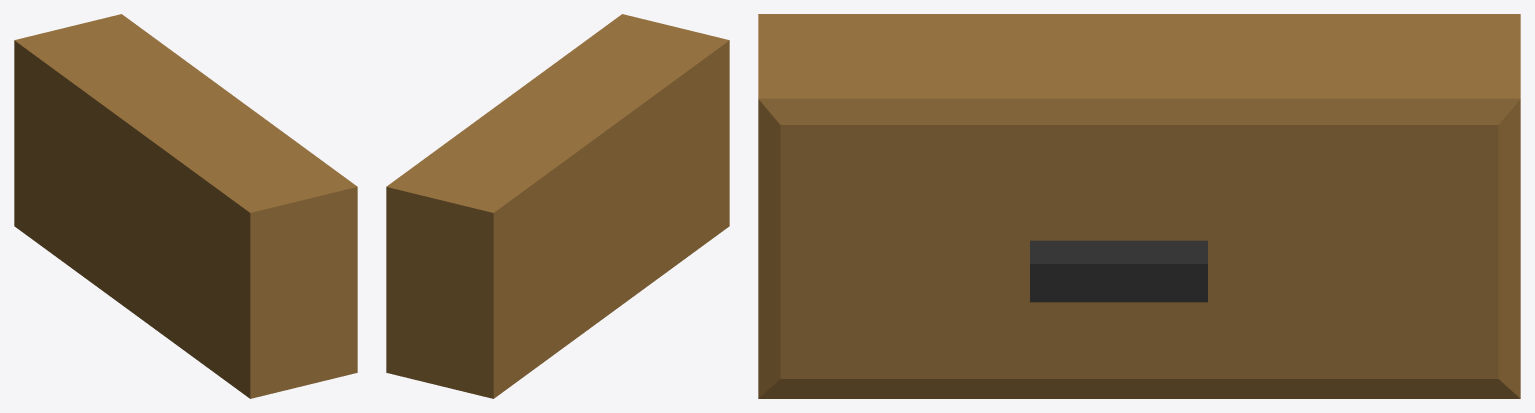
Rendered from drawers.fbx.
The picture shows the model from 3 angles, left to right: view 1: azimuth 30°, elevation 25°; view 2: azimuth 150°, elevation 25°; view 3: azimuth 270°, elevation 25°; orthographic projection. The views are drawn at different scales.
Parts seen in each view (by area): view 1: pCube9; view 2: pCube9; view 3: pCube9.
Part boxes in pixels (x1,y1,x2,y2): pCube9: (14,14,357,398); pCube9: (386,14,729,398); pCube9: (758,14,1520,398).
Bounding box in the file's own units: 0.3446 × 0.4345 × 1.
